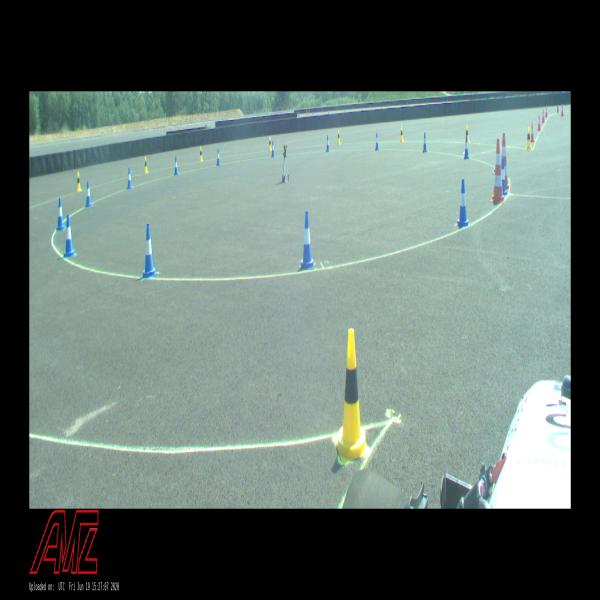blue_cone: (299, 211, 315, 269), (142, 224, 157, 278), (457, 180, 469, 226), (64, 215, 76, 258), (56, 197, 65, 231), (501, 158, 507, 195), (86, 181, 92, 208), (464, 135, 470, 159), (423, 132, 428, 152), (174, 157, 179, 176), (216, 148, 221, 166), (128, 168, 132, 189), (375, 132, 379, 151), (271, 141, 275, 157), (326, 135, 329, 152)
large_orange_cone: (490, 139, 505, 203), (501, 134, 509, 189)
orange_cone: (530, 122, 535, 142), (537, 115, 541, 130), (560, 104, 564, 116), (542, 110, 545, 122), (545, 106, 548, 116)
yellow_cone: (335, 328, 368, 462), (526, 128, 531, 150), (77, 172, 81, 191), (465, 125, 469, 143), (144, 157, 148, 174), (199, 146, 203, 162), (400, 126, 404, 142), (337, 130, 341, 144), (269, 136, 272, 151)
